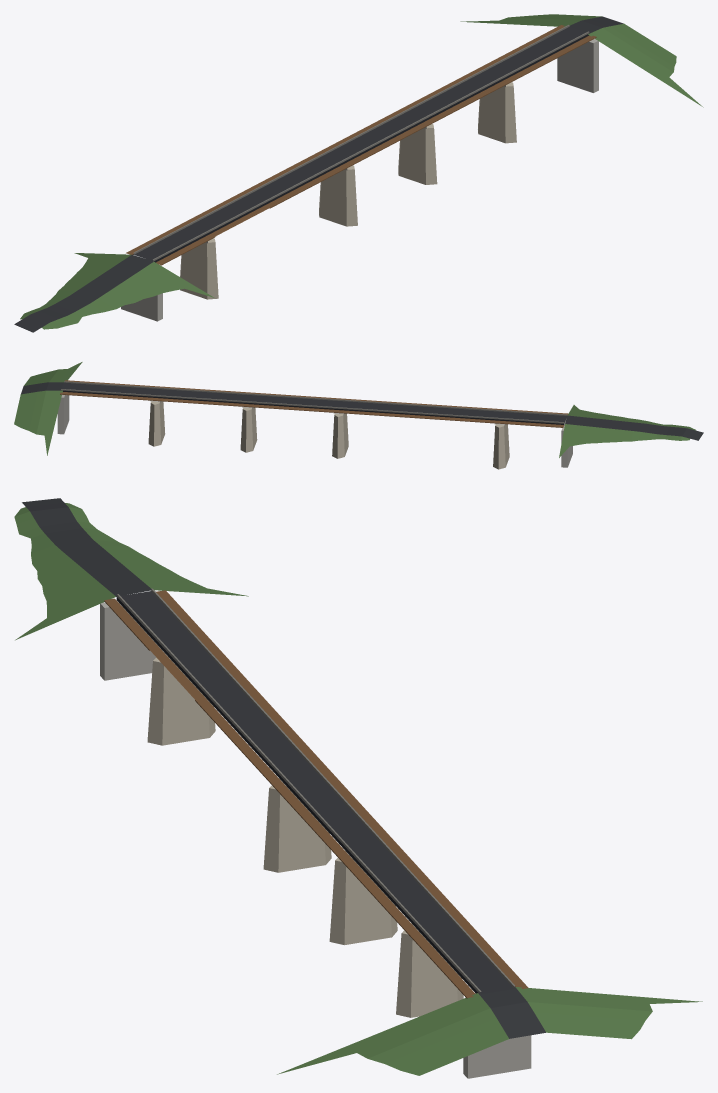
Rendered from br_r15_dawson_lod3.gltf.
3 views of the same model, one above another, from view 1: azimuth 30°, elevation 25°; view 2: azimuth 150°, elevation 25°; view 3: azimuth 270°, elevation 25° (orthographic). The views are drawn at different scales.
Parts seen in each view (by area): view 1: br_r15_dawson_lod3; view 2: br_r15_dawson_lod3; view 3: br_r15_dawson_lod3.
Part boxes in pixels (<box>): br_r15_dawson_lod3: <box>14,14,703,332</box>; br_r15_dawson_lod3: <box>14,362,703,469</box>; br_r15_dawson_lod3: <box>14,498,702,1078</box>.
Bounding box in the file's own units: 311 × 24.5 × 162.
